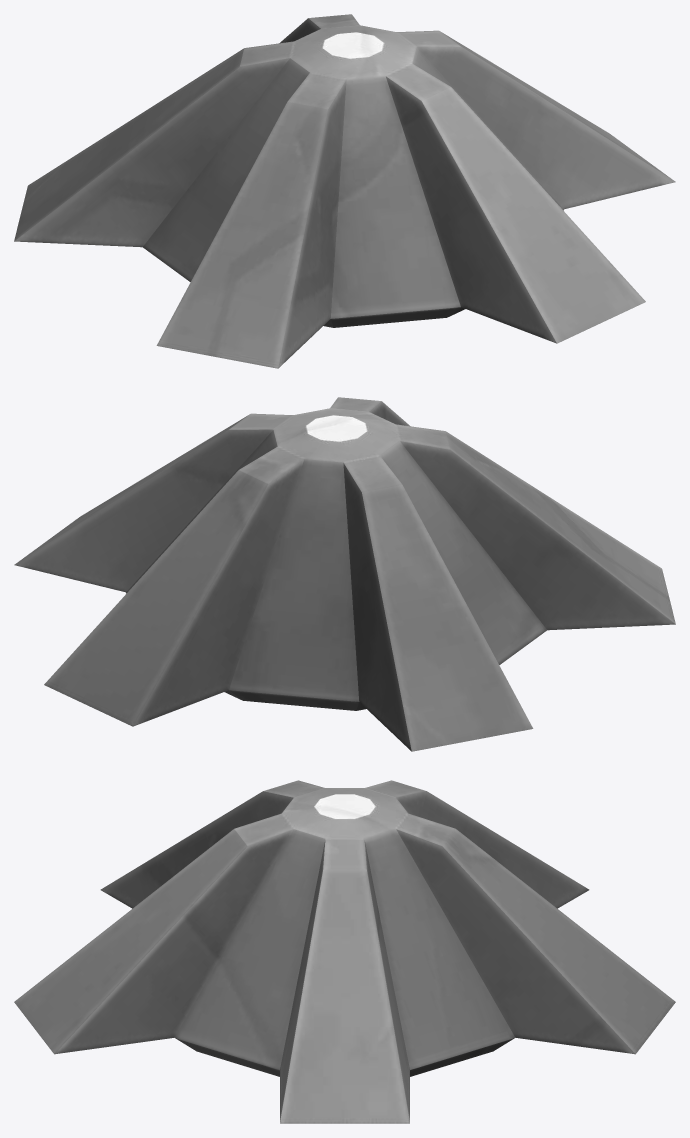
Rendered from obj_gear01_alt.gltf.
The picture shows the model from 3 angles, top to bottom: view 1: azimuth 30°, elevation 25°; view 2: azimuth 150°, elevation 25°; view 3: azimuth 270°, elevation 25°; orthographic projection. The views are drawn at different scales.
Visible parts, largest first — view 1: obj_gear01_alt; view 2: obj_gear01_alt; view 3: obj_gear01_alt.
Part boxes in pixels (left/top/right/bottom): obj_gear01_alt: left=14, top=14, right=675, bottom=368; obj_gear01_alt: left=14, top=397, right=675, bottom=751; obj_gear01_alt: left=14, top=780, right=675, bottom=1123.
Size of what is drawn, in the model's own units: 0.313 by 0.1093 by 0.3291.
1 material, 1 textured.
